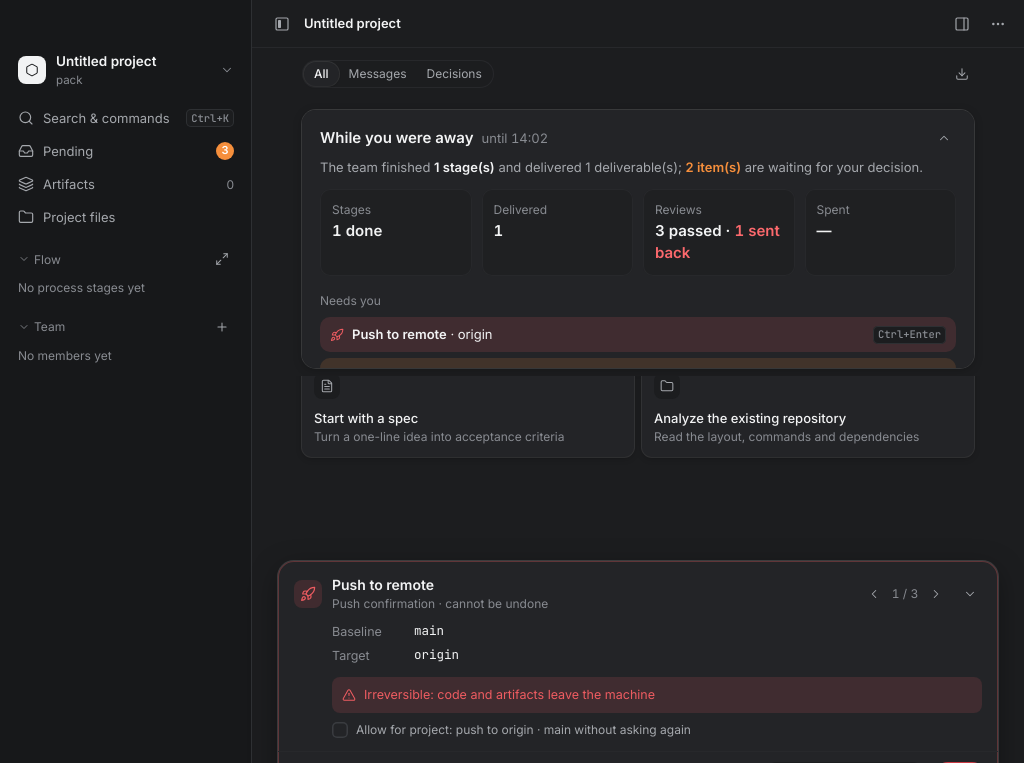
collapses to a single line and expands back
(page scrolled)
Step 1. Click the button named "Collapse summary" → [944, 138], box 932,126 -> 956,150
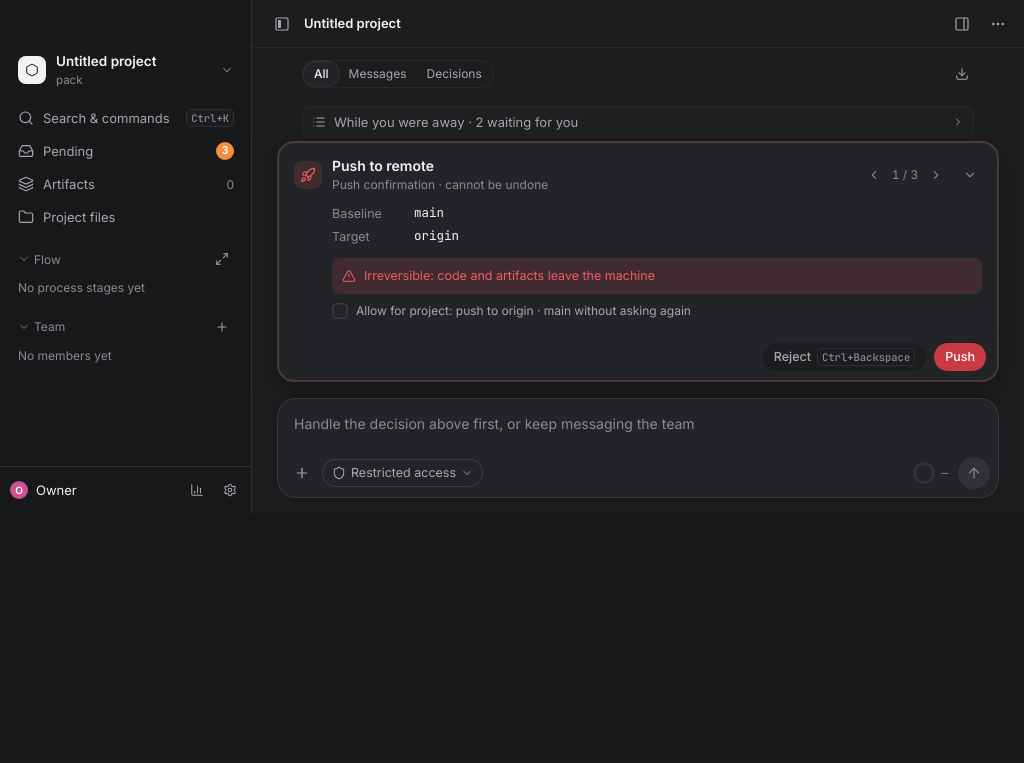
Check: the button "While you were away · 2 waiting for you" is shown
Step 2. Click the button "While you were away · 2 waiting for you" → [456, 122], box 302,106 -> 974,138
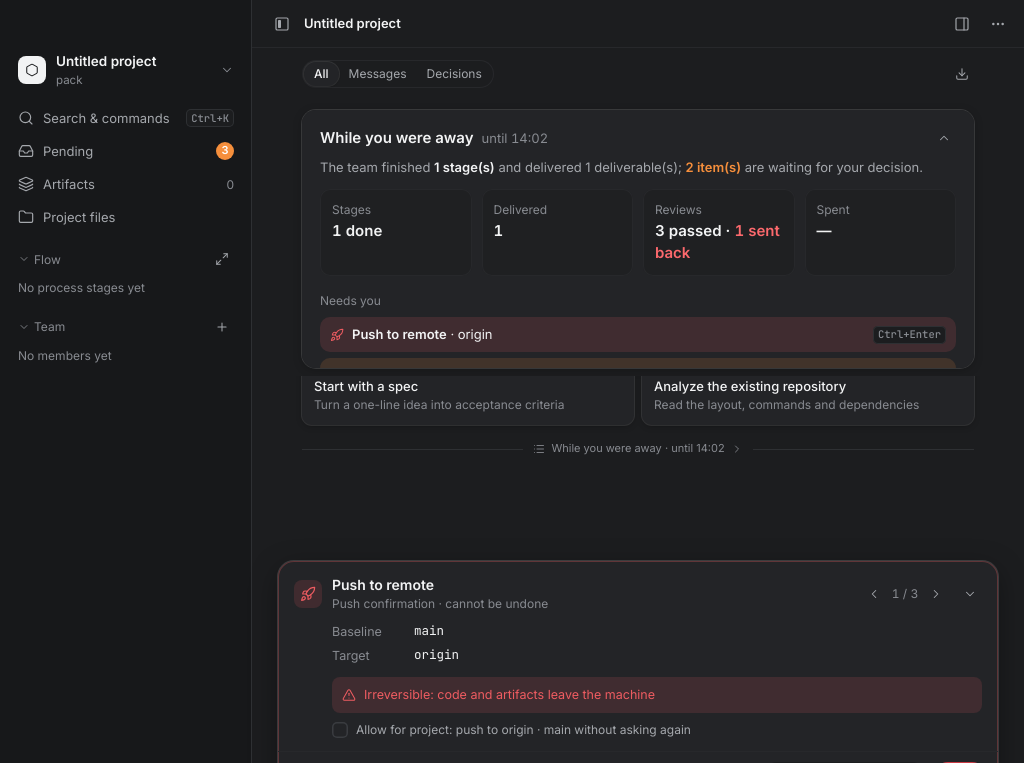
Check: the list item "Push to remote · origin Ctrl+Enter" is shown, box 320,317 -> 956,352
